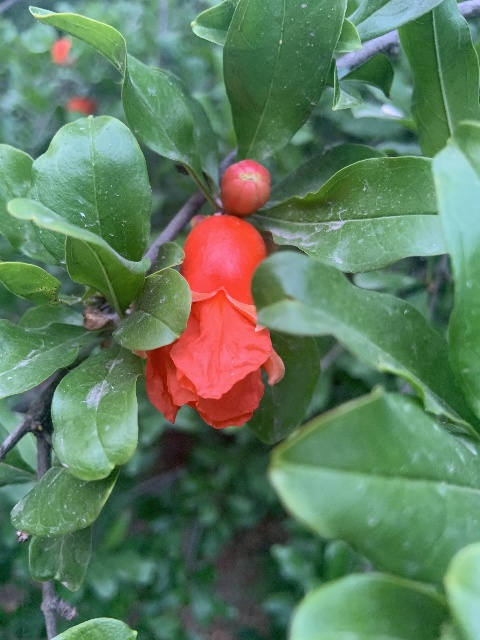bud: (220, 159, 270, 218)
flower: (142, 212, 282, 431)
